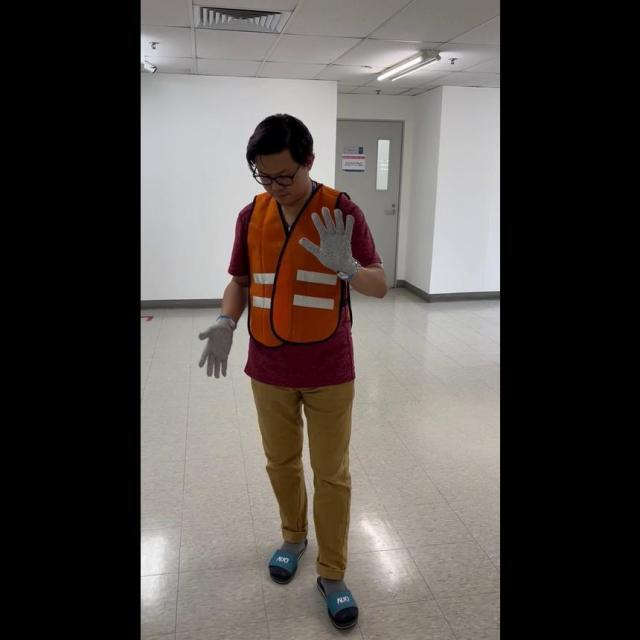gloved_hand: (298, 200, 360, 281), (194, 310, 238, 380)
